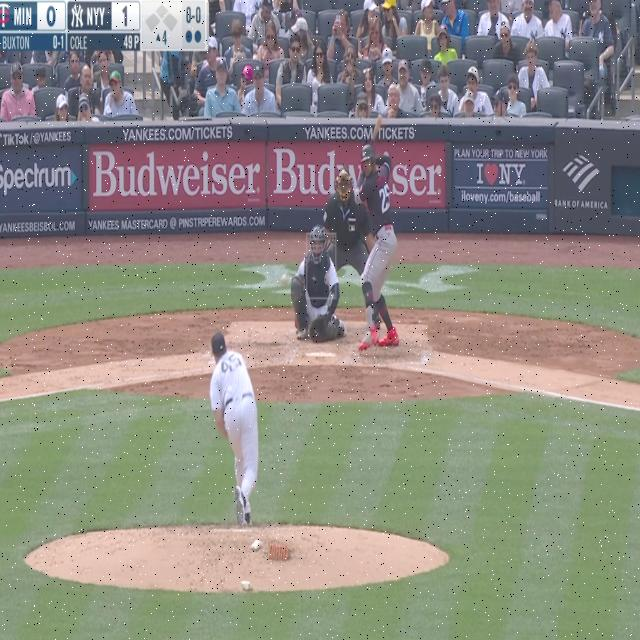baseball: (280, 272, 288, 286)
